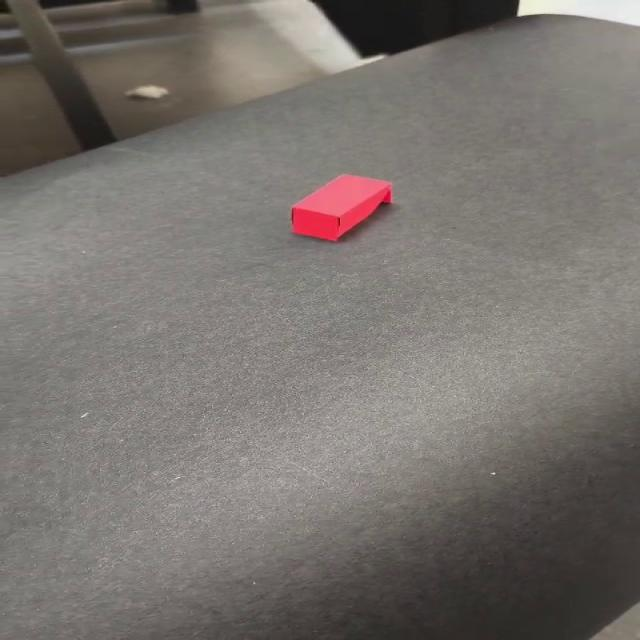red block: (288, 172, 392, 242)
